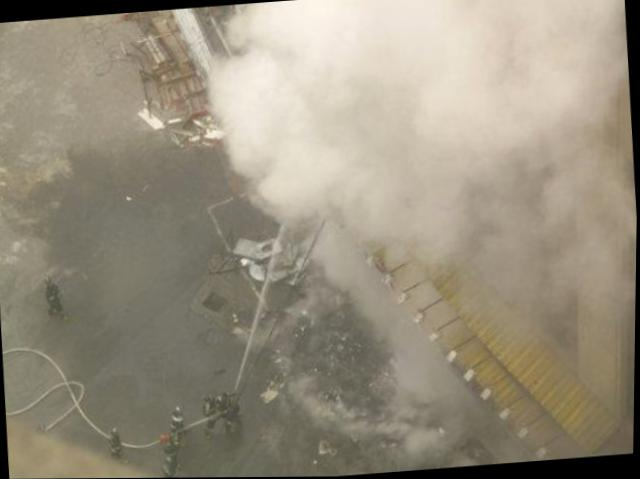smoke: (319, 0, 636, 258), (199, 25, 334, 230), (332, 250, 445, 400), (220, 0, 322, 30)
